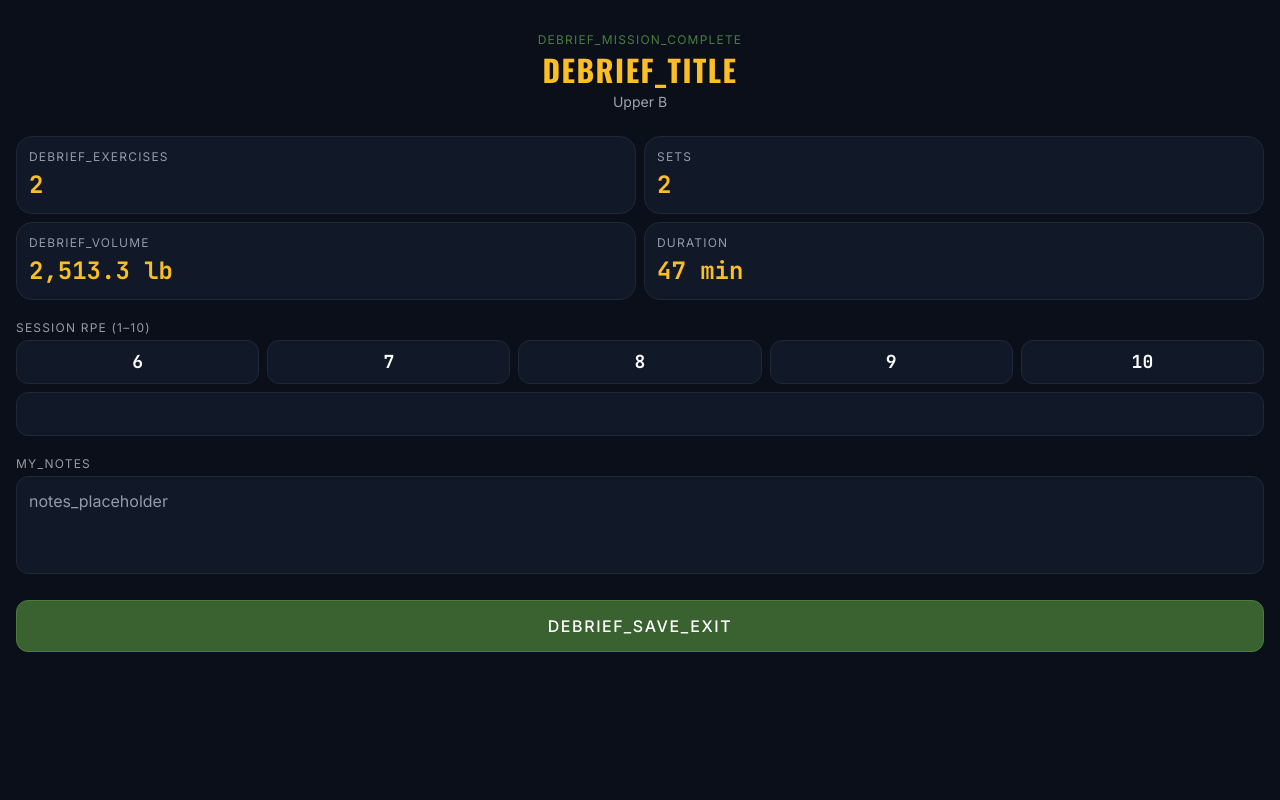
Test: debrief page (G3 finish) › shows PR values in pounds and reps as counts
This screenshot has width=1280, height=800.
What coordinates should you click on to do the following:
click the button with test id "save-workout"
I would click on:
 (640, 626)
Its box is [16, 600, 1264, 652].
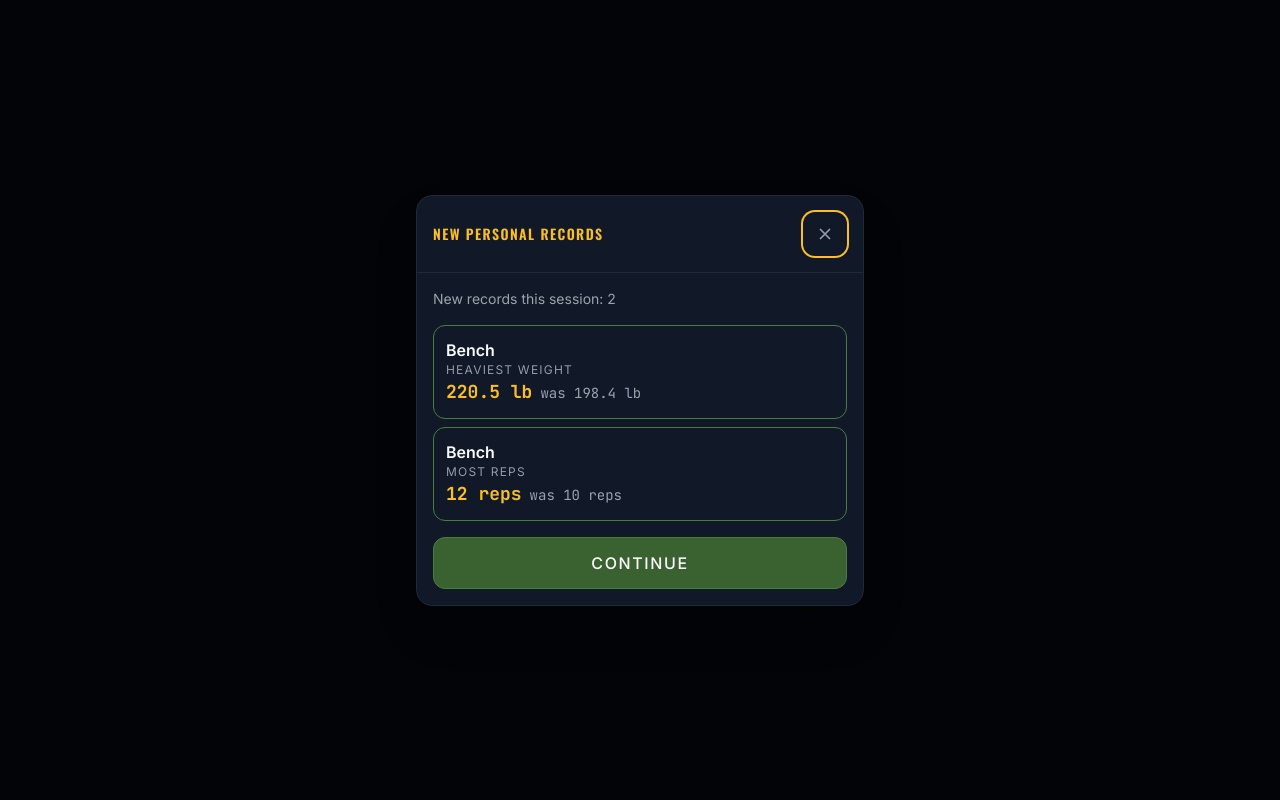
Check: the list item with test id "pr-celebration-item" shows "220.5 lb", box [446, 380, 532, 402]
Check: the list item with test id "pr-celebration-item" shows "was 198.4 lb", box [540, 384, 641, 402]
Check: the list item with test id "pr-celebration-item" shows "12 reps", box [446, 482, 522, 504]
